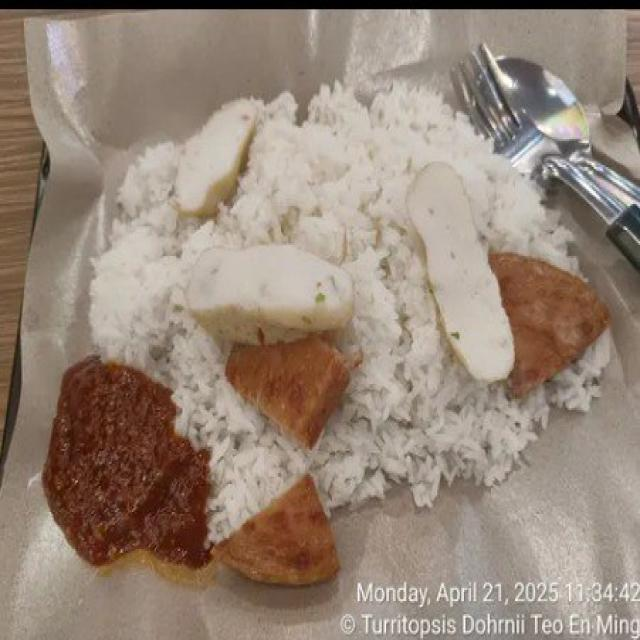Fish: (404, 161, 514, 378), (184, 245, 353, 339), (176, 98, 255, 217)
Pork: (490, 252, 610, 395), (226, 332, 359, 447), (211, 475, 338, 584)
Rice: (89, 141, 548, 540), (216, 83, 578, 341), (549, 330, 609, 410)
